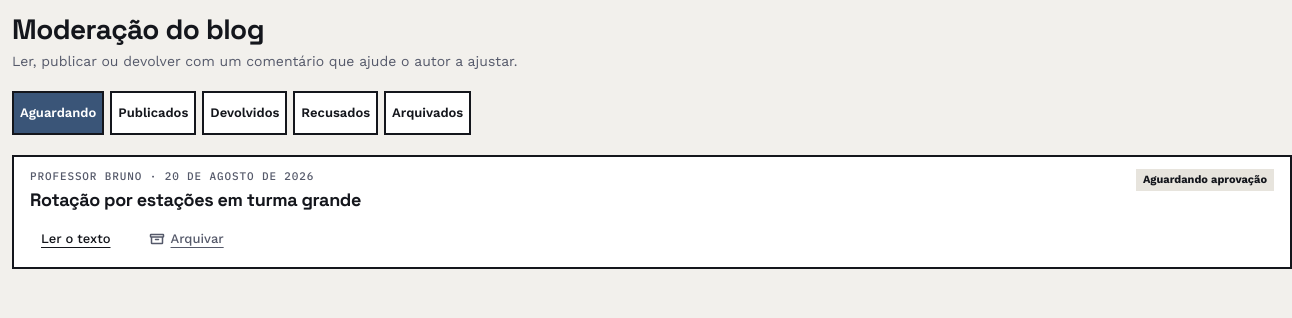
PaginaModeracao › troca de aba e mostra o comentário anterior do texto devolvido
Check: the heading "Rotação por estações em turma grande" is shown, box [30,189,361,212]
What coordinates should you click on to do the following:
click the button "Devolvidos"
I would click on:
 (245, 113)
Its box is [202,91,287,135].
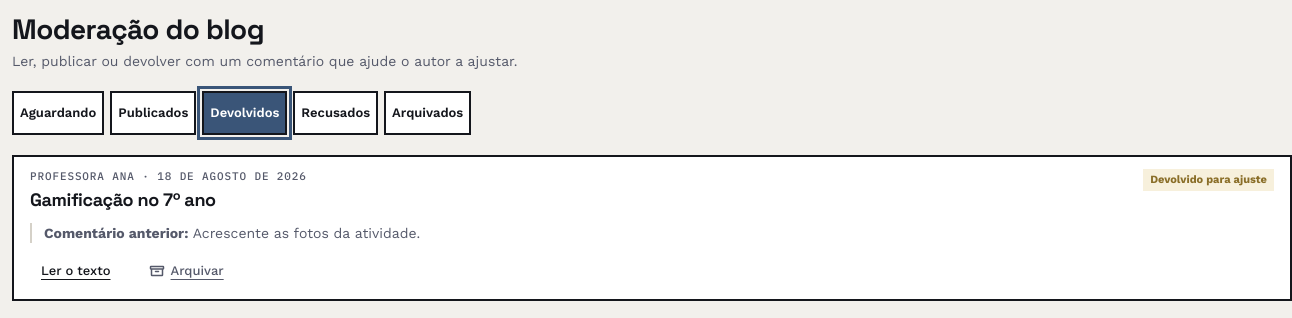
Check: the heading "Gamificação no 7º ano" is shown, box [30,188,216,211]
Check: the text "Comentário anterior: Acrescente as fotos da atividade." is shown, box [30,224,1274,244]
